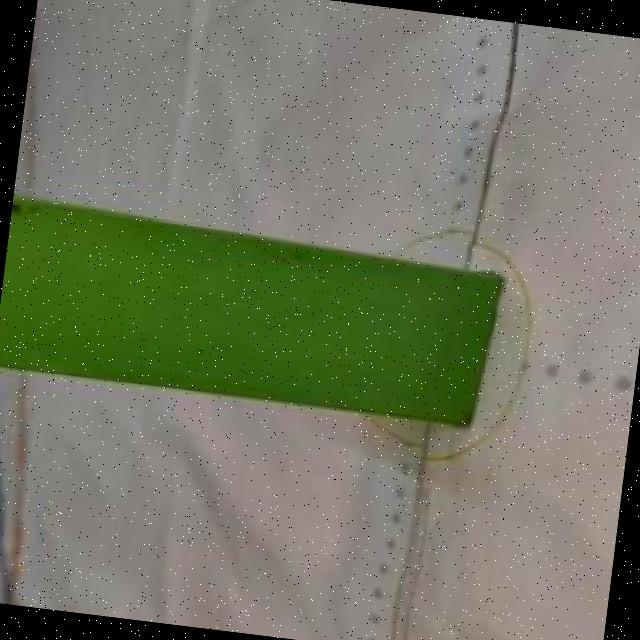greenbox: (0, 191, 507, 430)
